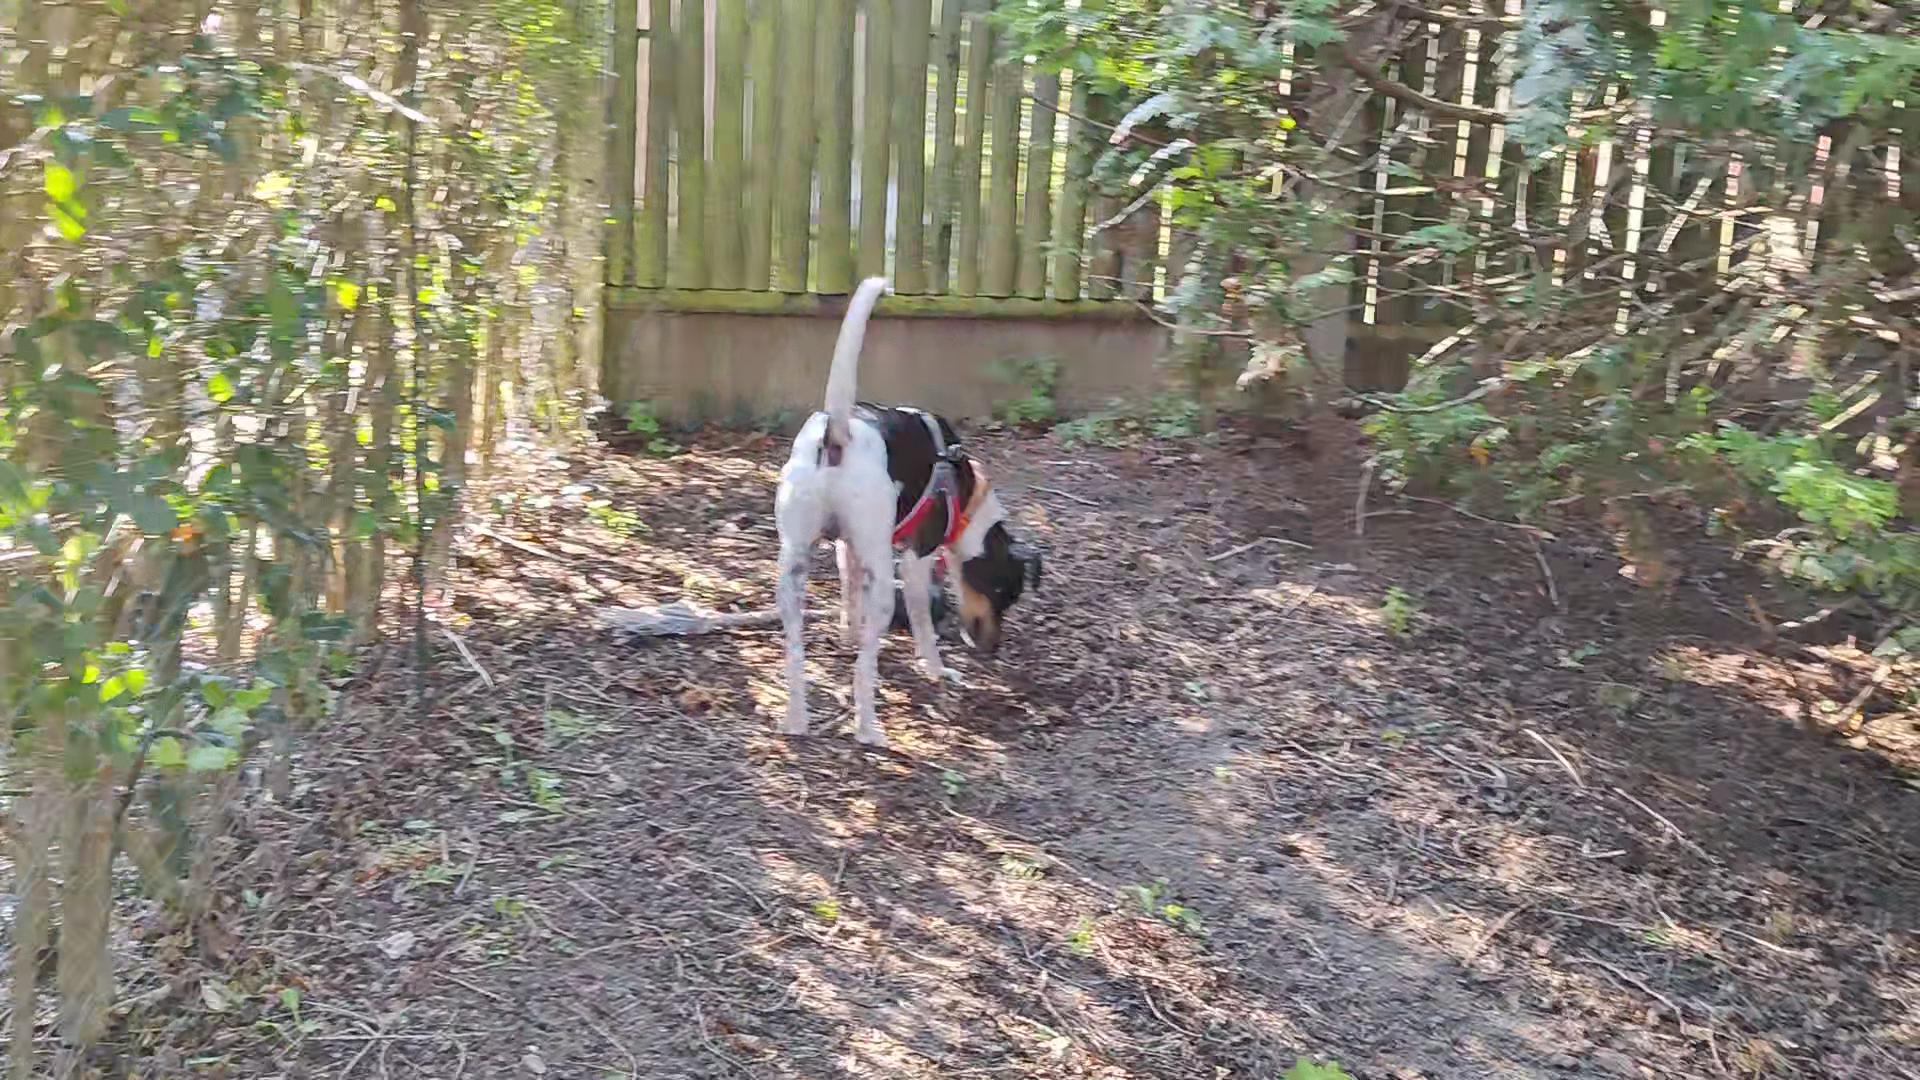Dog: (732, 265, 1056, 752)
